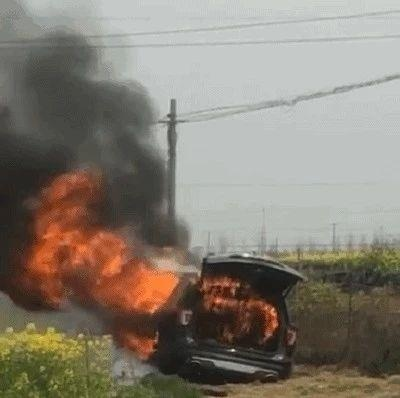fire: (21, 168, 177, 317)
